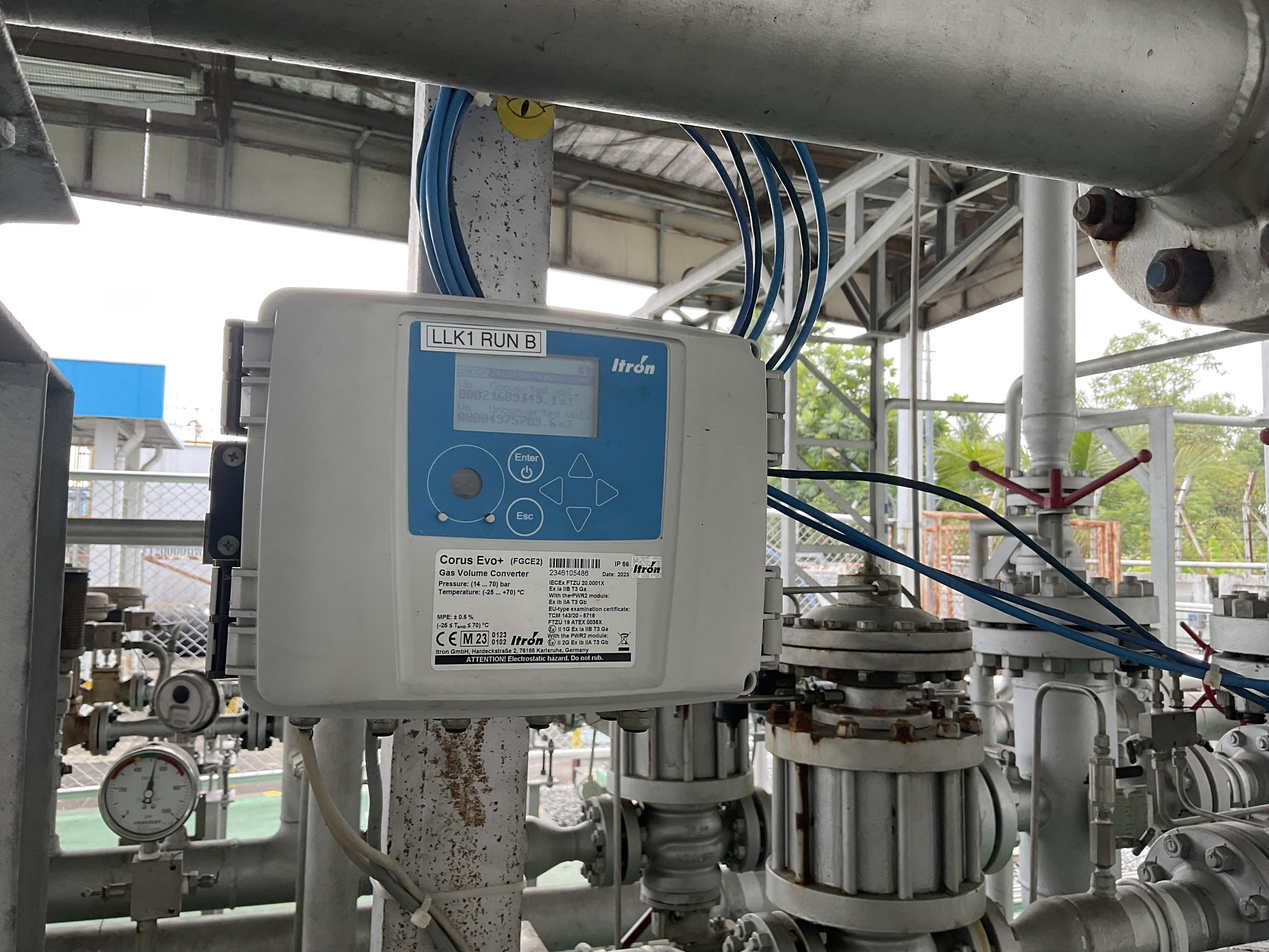digital_screen: (451, 349, 602, 438)
